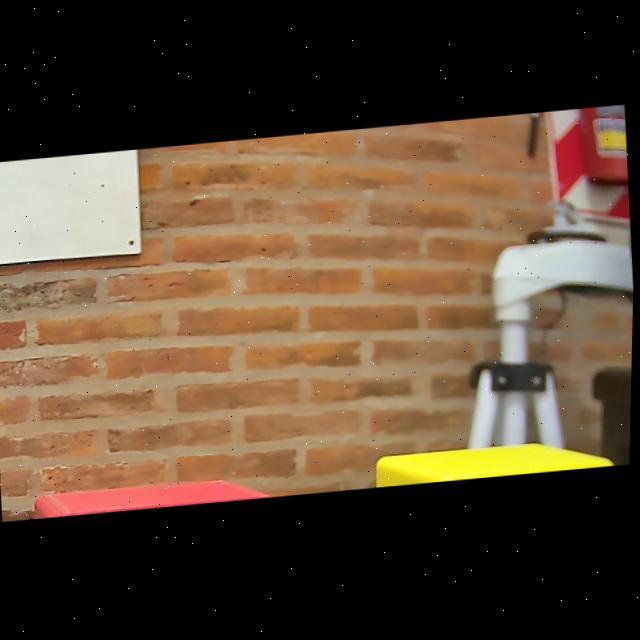redBox: (27, 463, 290, 519)
yellowBox: (369, 424, 623, 489)
